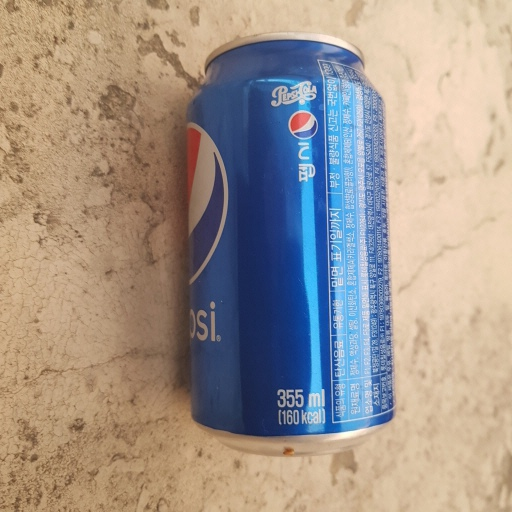Metal_0: (179, 34, 401, 459)
